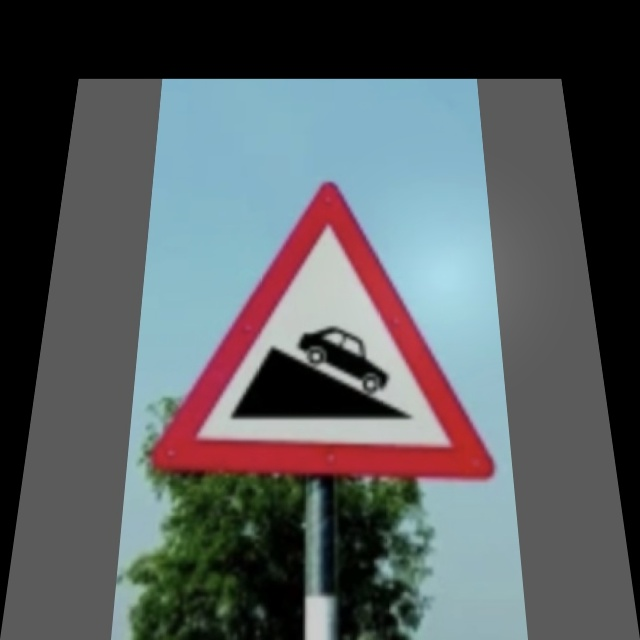Steep_Descent: (160, 186, 482, 482)
